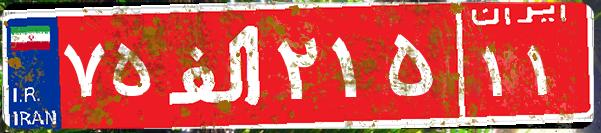1: (330, 28, 385, 110), (475, 38, 525, 113), (525, 38, 570, 115)
2: (273, 28, 330, 110)
5: (385, 28, 445, 110), (110, 28, 158, 105)
7: (57, 26, 110, 107)
الف: (158, 15, 273, 115)
